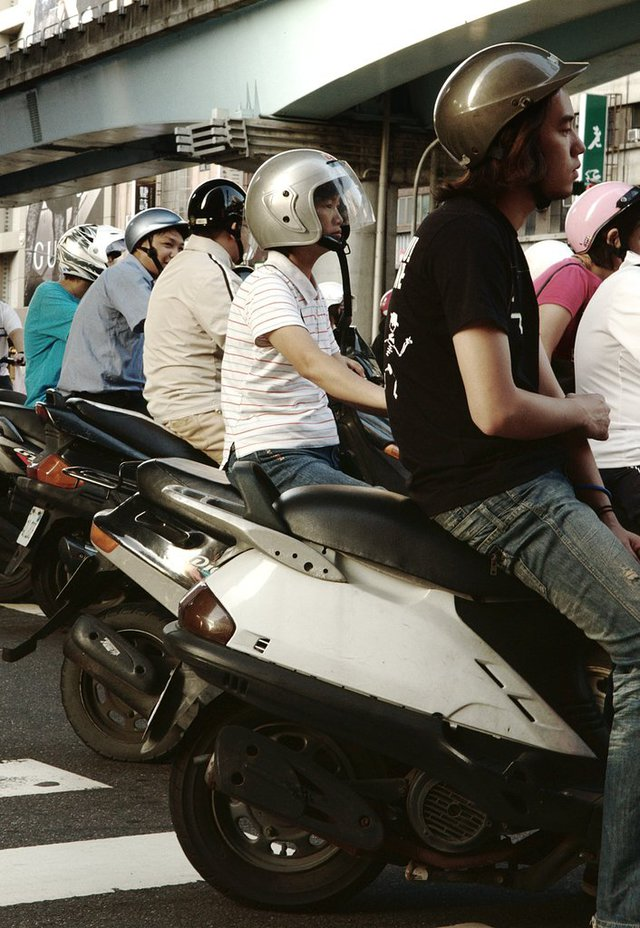helmet: (418, 43, 584, 143), (241, 165, 371, 237), (182, 174, 247, 231), (57, 228, 121, 281), (121, 210, 201, 240)
